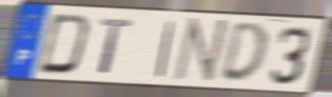3: (269, 24, 313, 87)
D: (35, 12, 93, 78), (217, 21, 269, 86)
I: (154, 19, 177, 80)
N: (171, 17, 232, 87)
T: (97, 16, 135, 76)
